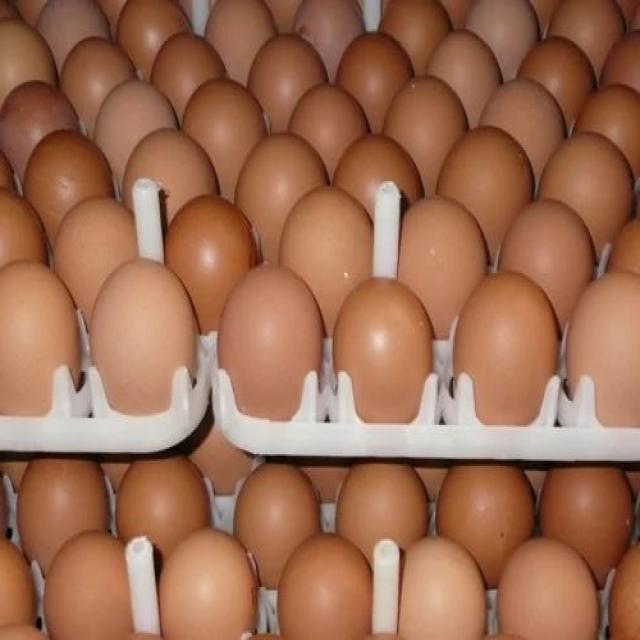Egg: (109, 0, 640, 328), (45, 527, 255, 638), (278, 533, 378, 638), (495, 538, 599, 638), (399, 535, 484, 638)
